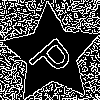P: (26, 29, 82, 84)
